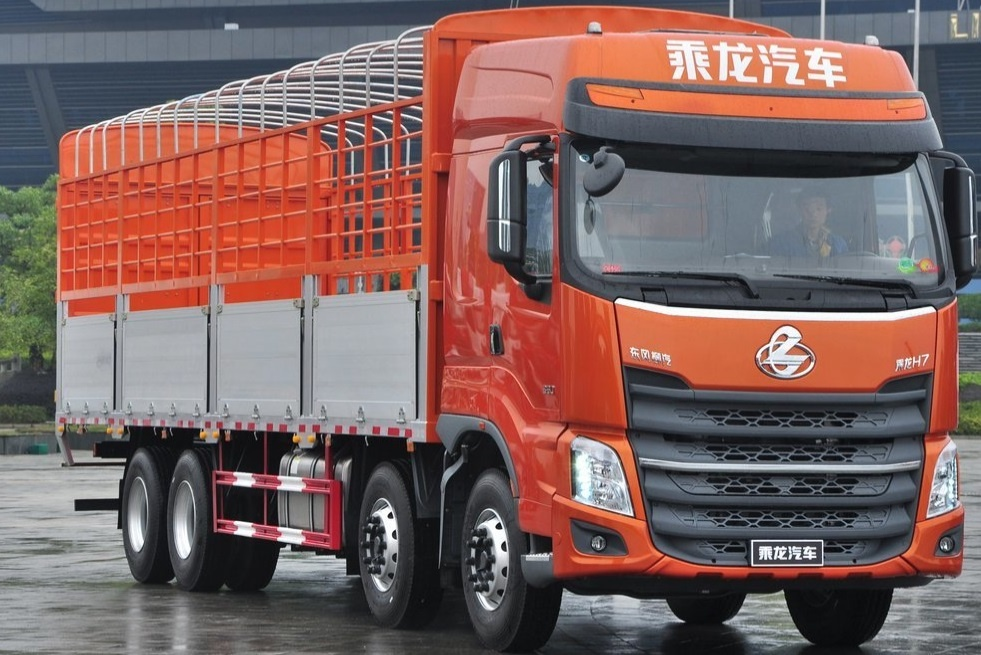heavy truck: (46, 37, 968, 634)
